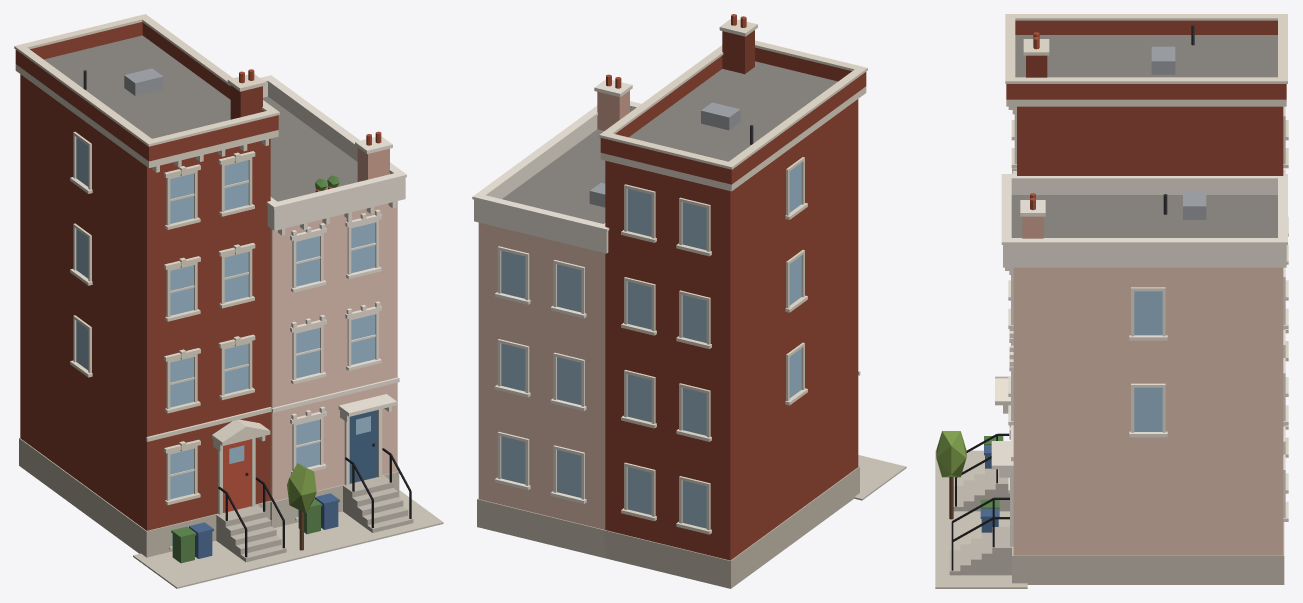
File: SiraEv_karisik_1_2_Hafif.fbx
The picture shows the model from 3 angles, left to right: view 1: azimuth 30°, elevation 25°; view 2: azimuth 150°, elevation 25°; view 3: azimuth 270°, elevation 25°; orthographic projection. The views are drawn at different scales.
Visible parts, largest first — view 1: SiraEv_karisik_1_2_Hafif; view 2: SiraEv_karisik_1_2_Hafif; view 3: SiraEv_karisik_1_2_Hafif.
Part boxes in pixels (x1,y1,x2,y2): SiraEv_karisik_1_2_Hafif: (14,14,443,588); SiraEv_karisik_1_2_Hafif: (472,14,906,588); SiraEv_karisik_1_2_Hafif: (935,14,1288,588).
Size of the model in its own units: 9.13 by 14.82 by 9.95.
